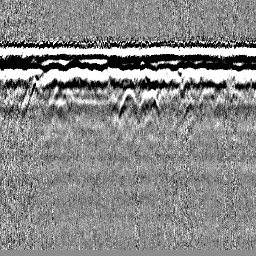cavity: (118, 88, 138, 118)
